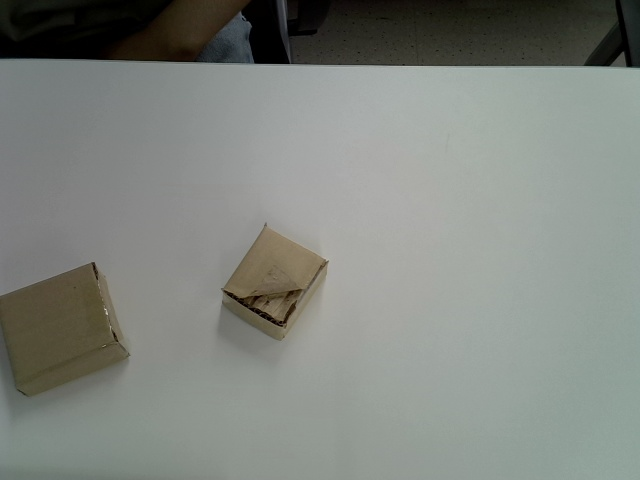defect: (220, 223, 328, 339)
normal: (1, 261, 131, 398)
